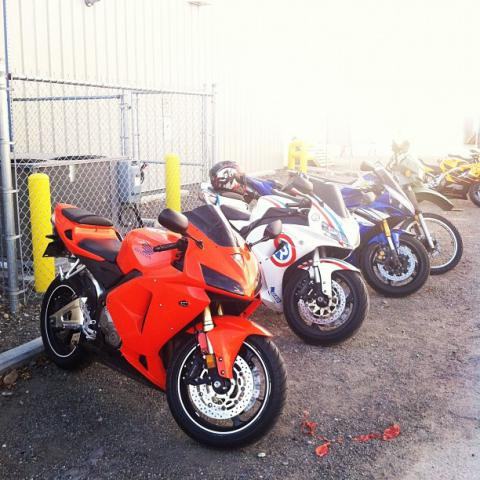motorcycle: (42, 202, 289, 450), (200, 168, 372, 346), (242, 161, 430, 298), (374, 141, 464, 274), (414, 152, 479, 207)
